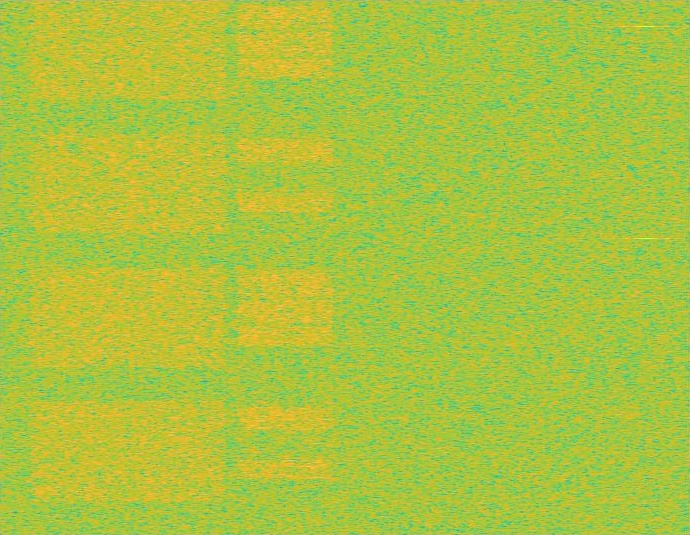5G: (25, 0, 232, 534)
LTE: (234, 0, 337, 534)
Radar: (638, 0, 652, 534)
